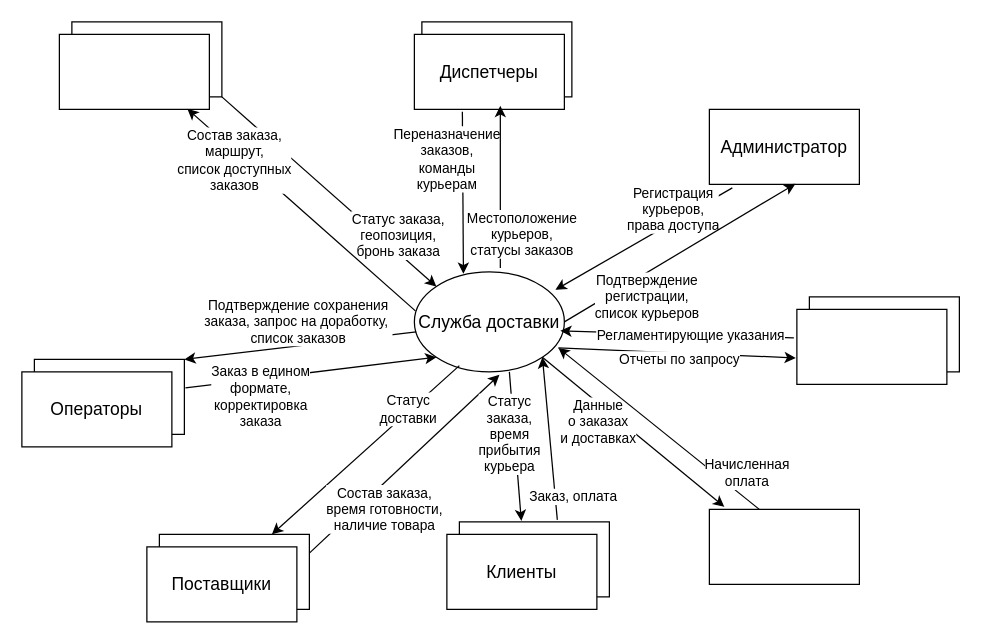
The diagram is 981 pixels wide and 644 high, and some of its shapes have lost their labels. Each missing label, with the centre of its shape:
"Бухгалтерия" goes at [783,546].
"Курьеры" goes at [133,71].
"Регуляторы" goes at [871,346].
